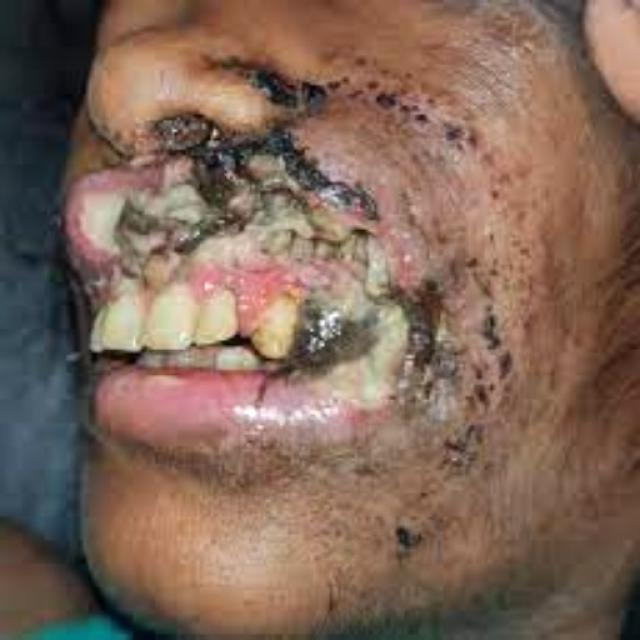cancer-detection: (64, 150, 458, 430)
processing_area: (56, 136, 487, 474)
